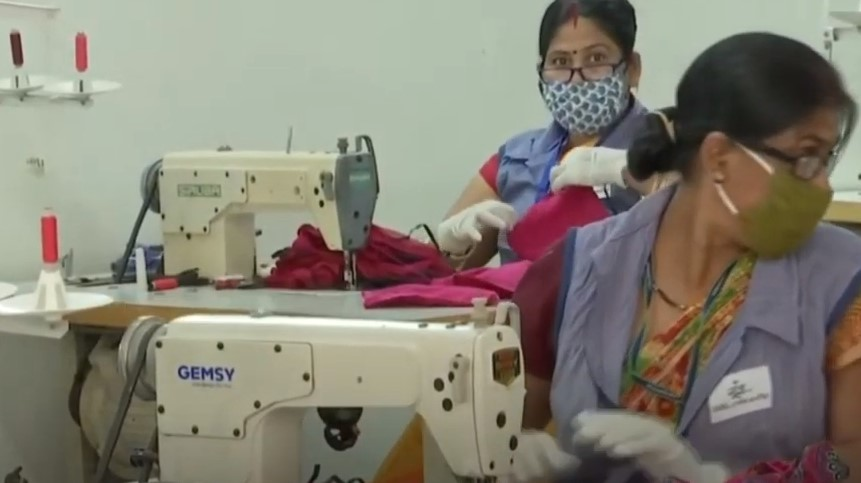face_with_mask: (680, 69, 851, 260), (540, 5, 645, 136)
